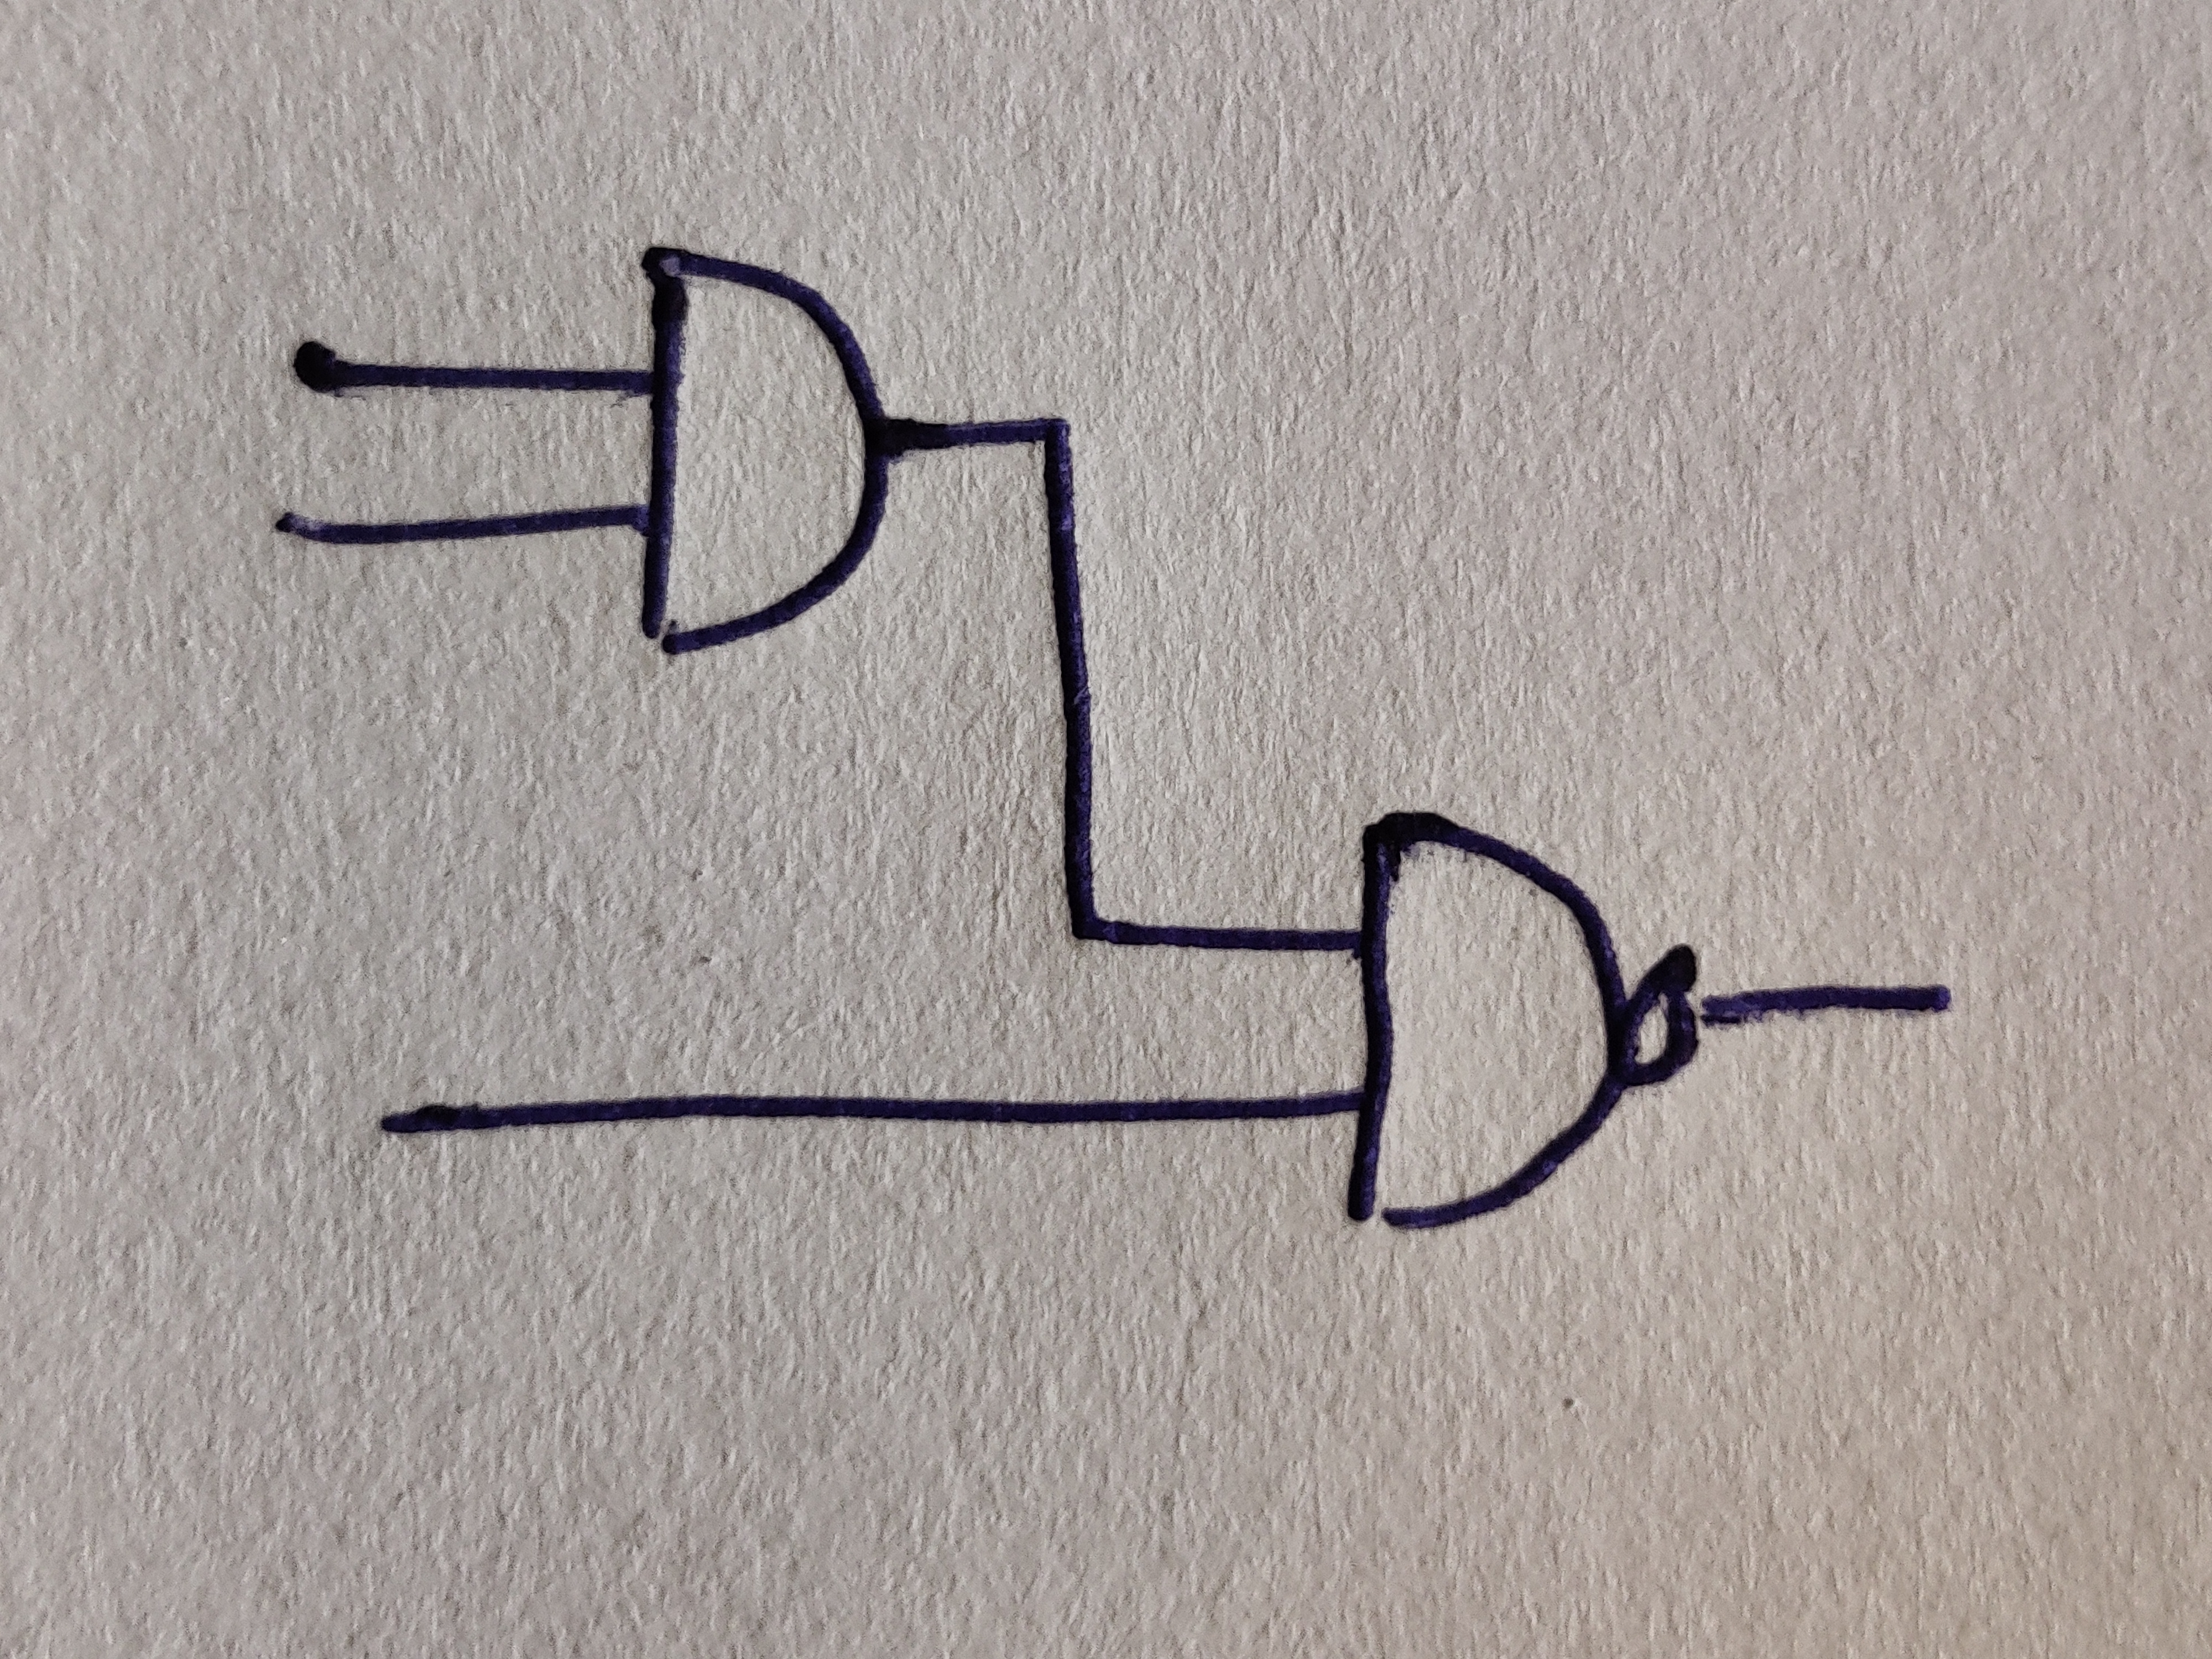and: (1348, 812, 1627, 1230), (641, 246, 888, 657)
not: (1625, 946, 1700, 1087)
